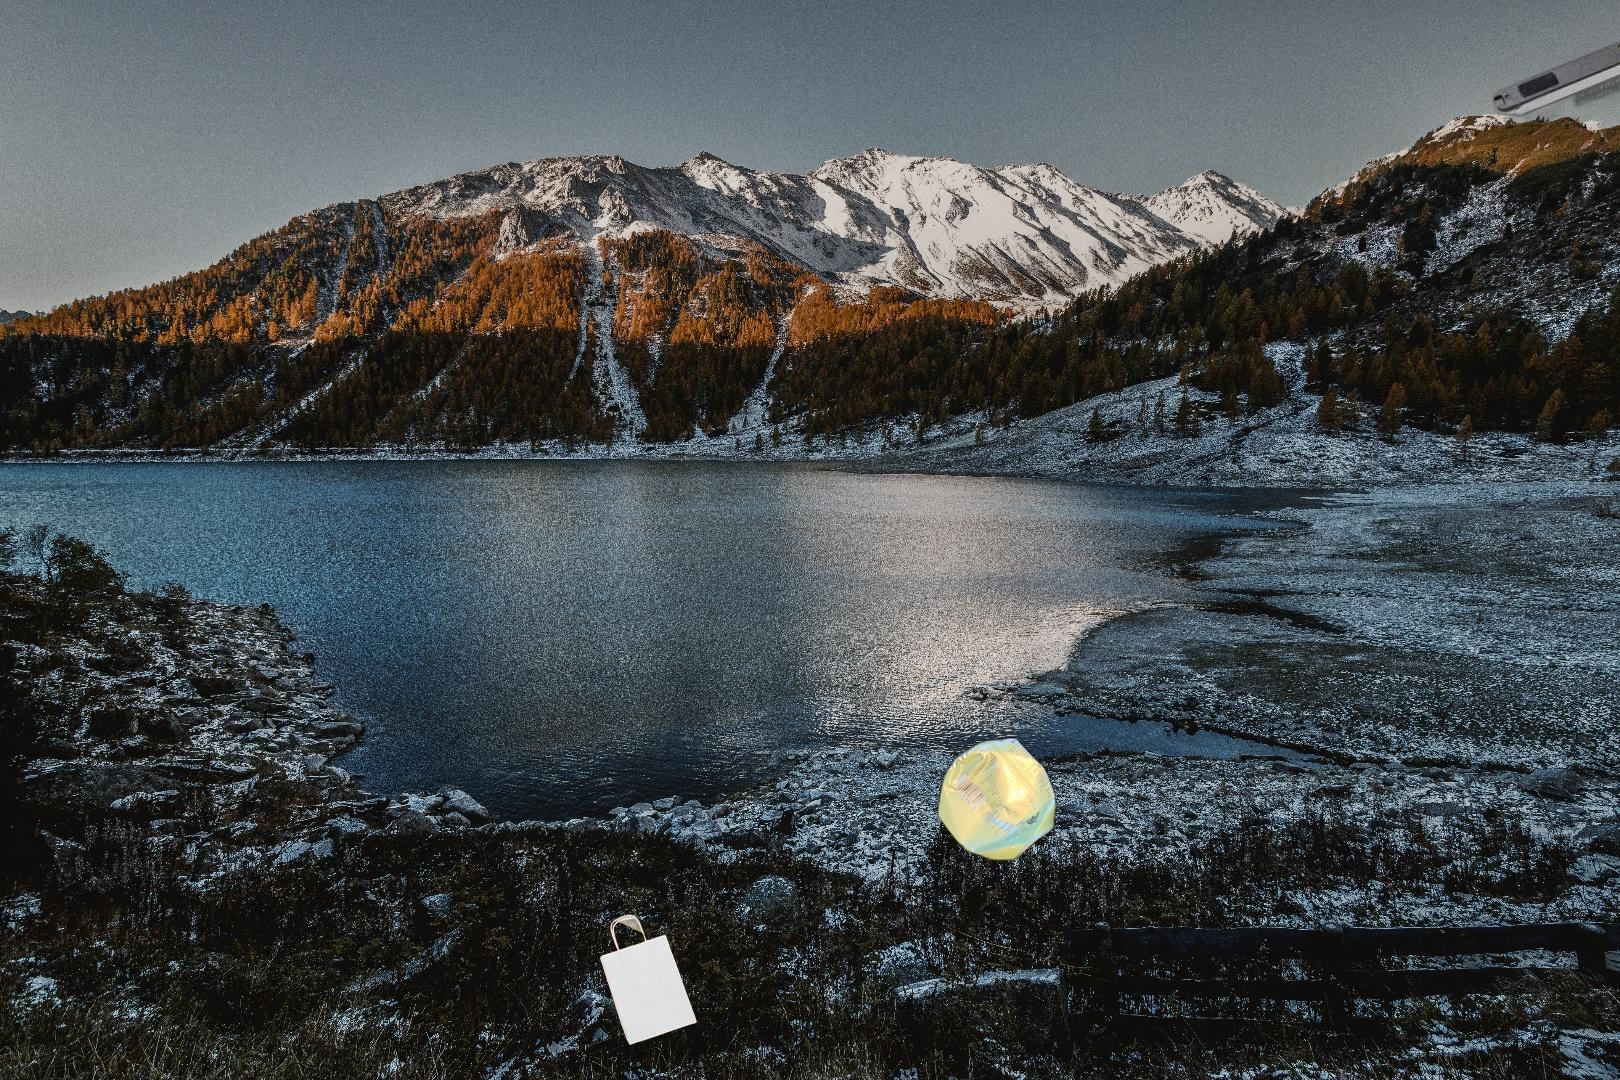battery: (1478, 14, 1620, 157)
metal-cans: (933, 730, 1062, 867)
paper-bag: (597, 911, 700, 1047)
